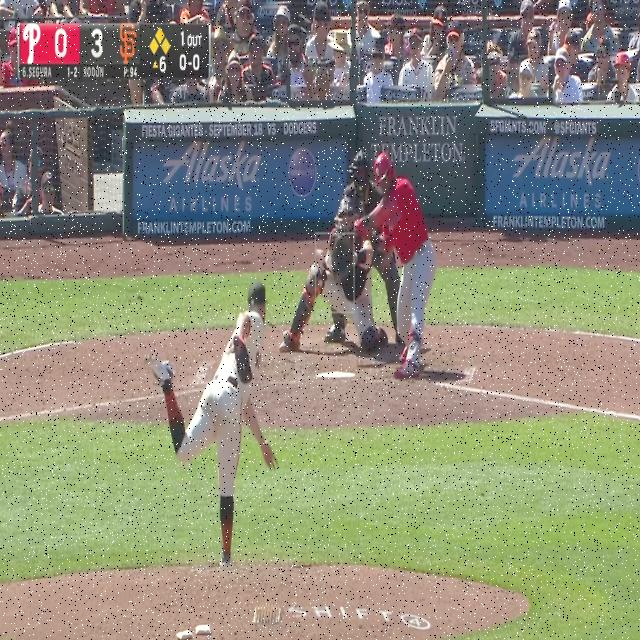baseball: (316, 248, 323, 259)
